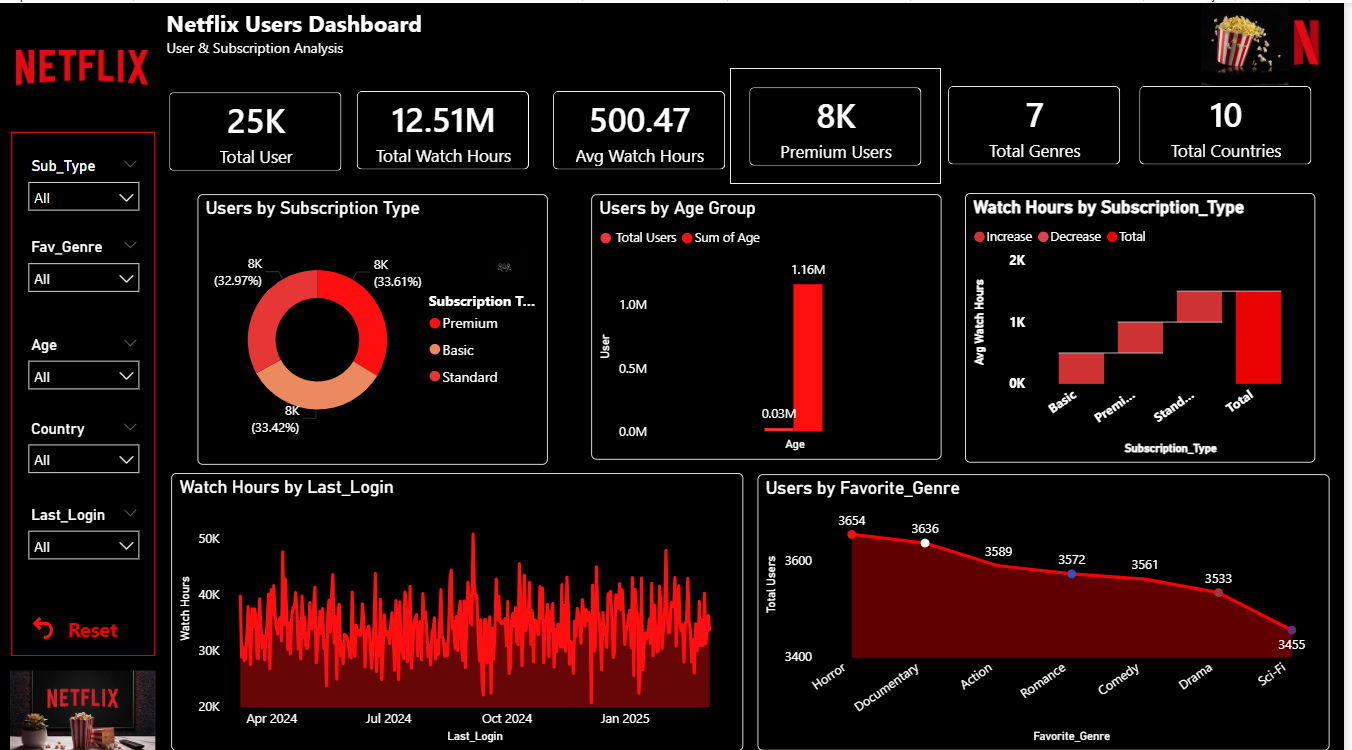

This screenshot's page, from the dashboard's own definition file:
{"tool":"powerbi","page":{"name":"Netflix User Dahboard","canvas":[1280,720],"ordinal":0},"visuals":[{"type":"image","box":[0,0,153.7,111.1],"z":0},{"type":"textbox","box":[153.6,0,507.1,64.3],"z":1000},{"type":"image","box":[1207.6,0,72.7,78.2],"z":2000},{"type":"cardVisual","fields":{"Data":["CountNonNull(netflix_users.User_ID)"]},"box":[142.7,67.2,200.3,111.1],"z":3000},{"type":"cardVisual","fields":{"Data":["Sum(netflix_users.Watch_Time_Hours)"]},"box":[321.1,65.9,200.3,111.1],"z":4000},{"type":"slicer","fields":{"Values":["Subscription.Subscription_Type"]},"box":[16.5,141.3,126.2,63.1],"z":5000},{"type":"slicer","fields":{"Values":["netflix_users.Favorite_Genre"]},"box":[16.5,219.6,126.2,63.1],"z":6000},{"type":"cardVisual","fields":{"Data":["Subscription.Total Countries"]},"box":[1066.2,60.4,200.3,111.1],"z":7000},{"type":"slicer","fields":{"Values":["netflix_users.Country"]},"box":[16.5,391.1,126.2,57.6],"z":8000},{"type":"cardVisual","fields":{"Data":["Subscription.Total Genres"]},"box":[885.1,60.4,200.3,111.1],"z":9000},{"type":"cardVisual","fields":{"Data":["Subscription.Avg Watch Hours"]},"box":[521.4,64.5,200.3,111.1],"z":10000},{"type":"cardVisual","fields":{"Data":["Subscription.Premium Users"]},"box":[695.7,61.7,200.3,111.1],"z":11000},{"type":"clusteredColumnChart","title":" Users  by Age Group","fields":{"Y":["Subscription.Total Users","Sum(netflix_users.Age)"]},"box":[562.6,182.5,333.4,252.5],"z":12000},{"type":"donutChart","title":" Users by Subscription Type","fields":{"Y":["Subscription.Total Users"],"Category":["netflix_users.Subscription_Type"]},"box":[188,182.5,333.4,258],"z":14000},{"type":"waterfallChart","title":" Watch Hours by Subscription_Type","fields":{"Category":["Subscription.Subscription_Type"],"Y":["Subscription.Avg Watch Hours"]},"box":[919.4,181.1,333.4,256.6],"z":15000},{"type":"slicer","fields":{"Values":["netflix_users.Age"]},"box":[16.5,311.5,126.2,63.1],"z":16000},{"type":"slicer","fields":{"Values":["netflix_users.Last_Login"]},"box":[16.5,473.4,126.2,63.1],"z":17000},{"type":"areaChart","fields":{"Y":["Subscription.Total Watch Hours"],"Category":["netflix_users.Last_Login"]},"box":[163.3,447.3,544.8,264.8],"z":18000},{"type":"shape","box":[11,122.1,137.2,499.5],"z":19000},{"type":"actionButton","box":[16.5,579.1,108.4,32.9],"z":20000},{"type":"areaChart","title":"Users by Favorite_Genre","fields":{"Category":["netflix_users.Favorite_Genre"],"Y":["Subscription.Total Users"]},"box":[721.8,448.7,544.8,263.5],"z":21000},{"type":"image","box":[9.6,635.3,138.6,78.2],"z":22000},{"type":"image","box":[459.7,225,42.5,52.1],"z":23000},{"type":"textbox","box":[59,579.1,65.9,56.3],"z":24000},{"type":"image","box":[1126.6,0,118,78.2],"z":26000}]}

Visuals, with their boxes in screenshot pixels (x1, y1, x2, y2), scaled from the page's 1280x720 canvas onto the 1352x750 screenshot:
image: left=0, top=0, right=162, bottom=116
textbox: left=162, top=0, right=698, bottom=67
image: left=1276, top=0, right=1351, bottom=81
cardVisual - CountNonNull(netflix_users.User_ID): left=151, top=70, right=362, bottom=186
cardVisual - Sum(netflix_users.Watch_Time_Hours): left=339, top=69, right=551, bottom=184
slicer - Subscription.Subscription_Type: left=17, top=147, right=151, bottom=213
slicer - netflix_users.Favorite_Genre: left=17, top=229, right=151, bottom=294
cardVisual - Subscription.Total Countries: left=1126, top=63, right=1338, bottom=179
slicer - netflix_users.Country: left=17, top=407, right=151, bottom=467
cardVisual - Subscription.Total Genres: left=935, top=63, right=1146, bottom=179
cardVisual - Subscription.Avg Watch Hours: left=551, top=67, right=762, bottom=183
cardVisual - Subscription.Premium Users: left=735, top=64, right=946, bottom=180
" Users  by Age Group" clusteredColumnChart: left=594, top=190, right=946, bottom=453
" Users by Subscription Type" donutChart: left=199, top=190, right=551, bottom=459
" Watch Hours by Subscription_Type" waterfallChart: left=971, top=189, right=1323, bottom=456
slicer - netflix_users.Age: left=17, top=324, right=151, bottom=390
slicer - netflix_users.Last_Login: left=17, top=493, right=151, bottom=559
areaChart - Subscription.Total Watch Hours x netflix_users.Last_Login: left=172, top=466, right=748, bottom=742
shape: left=12, top=127, right=157, bottom=648
actionButton: left=17, top=603, right=132, bottom=638
"Users by Favorite_Genre" areaChart: left=762, top=467, right=1338, bottom=742
image: left=10, top=662, right=157, bottom=743
image: left=486, top=234, right=530, bottom=289
textbox: left=62, top=603, right=132, bottom=662
image: left=1190, top=0, right=1315, bottom=81
